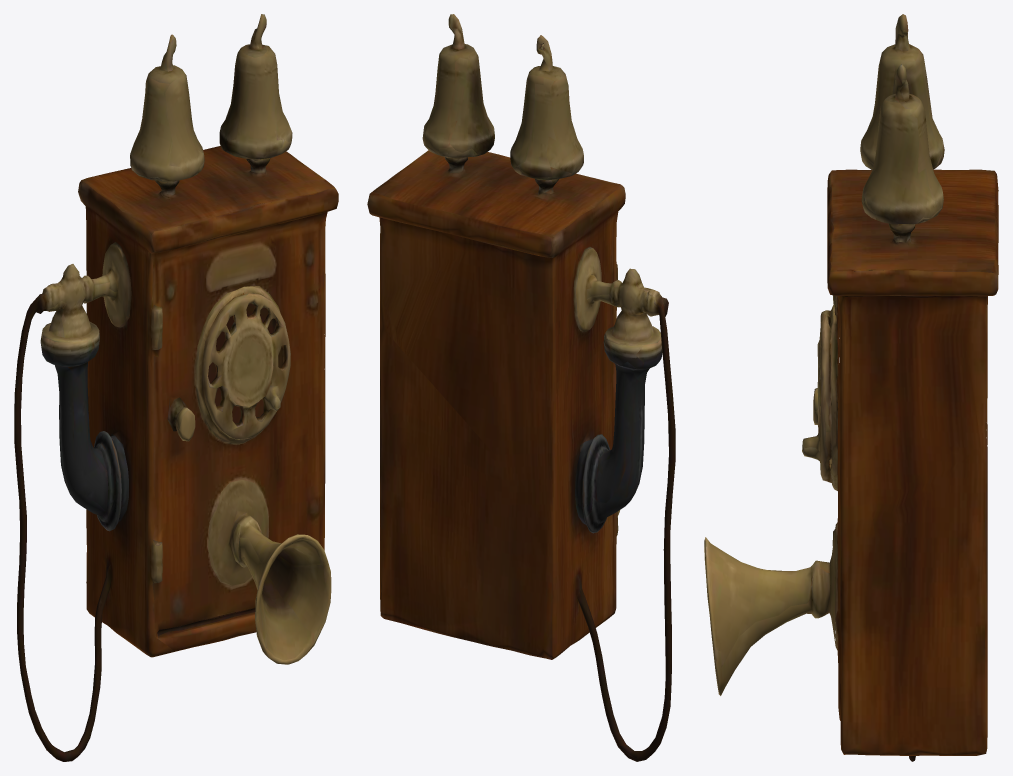
File: telefono.glb
The picture shows the model from 3 angles, left to right: view 1: azimuth 30°, elevation 25°; view 2: azimuth 150°, elevation 25°; view 3: azimuth 270°, elevation 25°; orthographic projection. The views are drawn at different scales.
Visible parts, largest first — view 1: geometry_0; view 2: geometry_0; view 3: geometry_0.
Boxes of the visible parts, x1,y1,x2,y2 form: geometry_0: [14, 14, 338, 761]; geometry_0: [367, 14, 675, 761]; geometry_0: [704, 14, 998, 761].
Bounding box in the file's own units: 0.25 × 0.6 × 0.2.
Materials: 1 (1 with a texture image).
